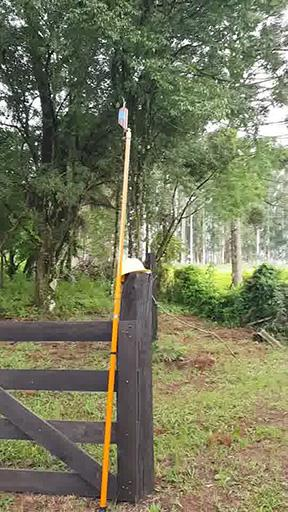Detector_Tensao_Contato: (116, 97, 129, 134)
Vara_Manobra: (97, 131, 130, 510)
